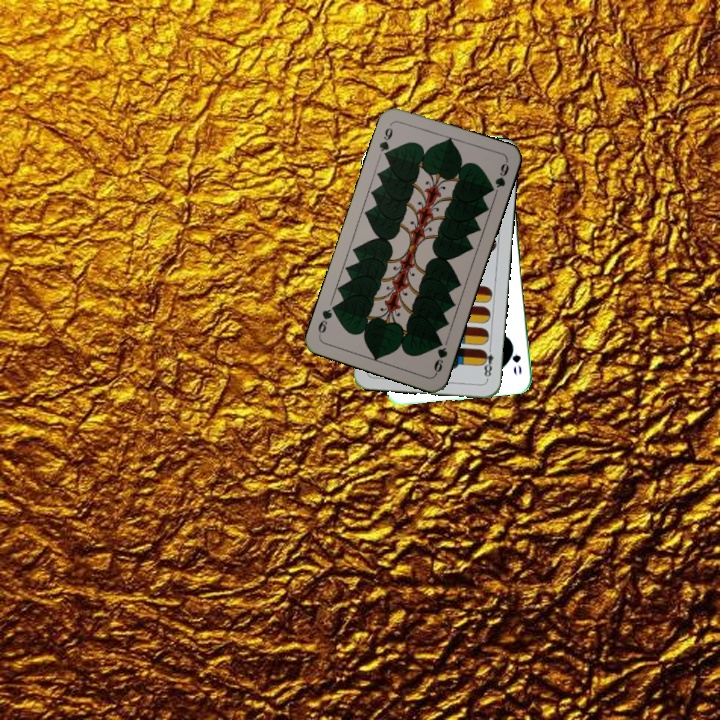E8: (478, 342, 496, 382)
G9: (430, 335, 450, 377), (375, 120, 395, 161)
GO: (506, 338, 524, 378)
